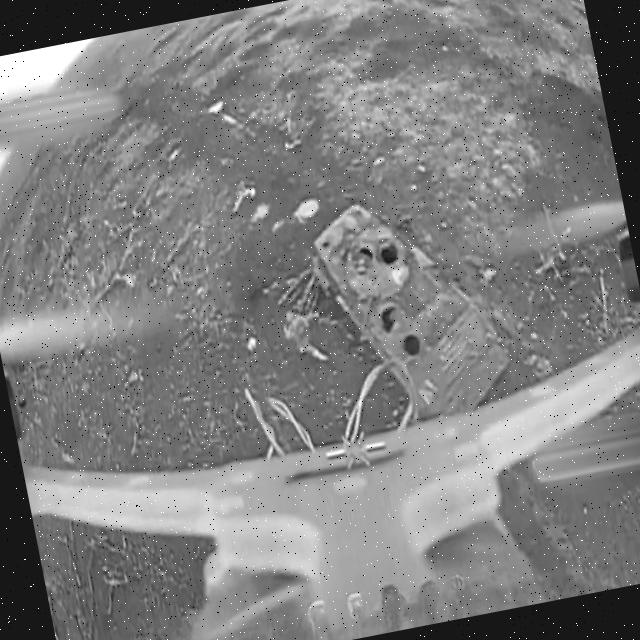Destroyed: (307, 185, 513, 433)
